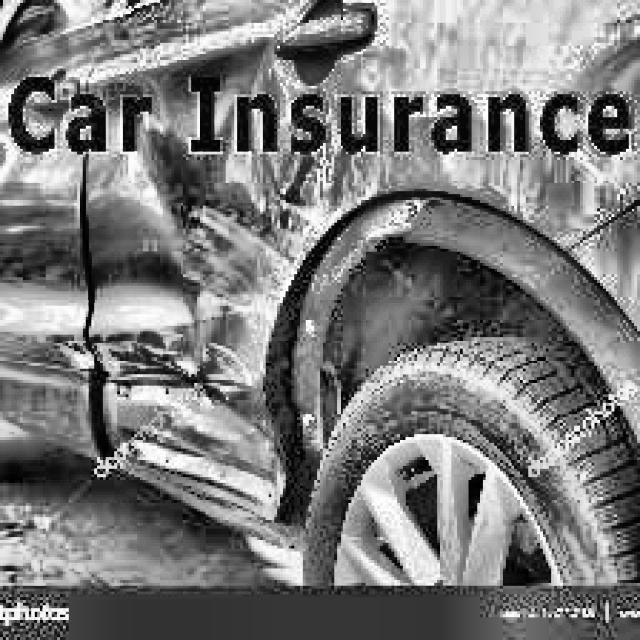door_dent: (95, 83, 330, 508)
